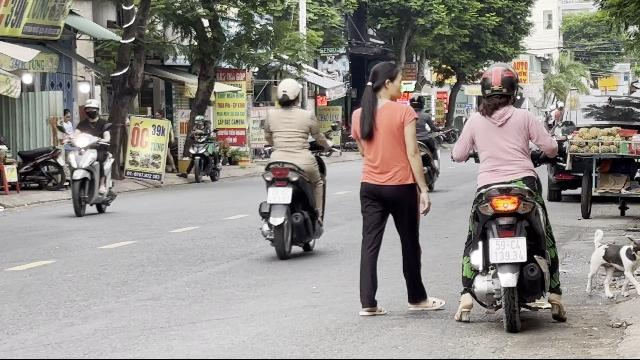helmet: (478, 64, 520, 110), (274, 78, 302, 106), (82, 98, 100, 120)
licenseplate: (490, 238, 526, 262), (268, 187, 292, 204)
motorcyclist: (448, 64, 568, 330), (256, 78, 330, 258), (62, 98, 118, 216)
